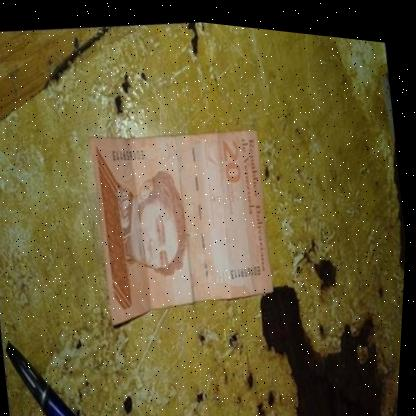twenty-front-vef: (81, 107, 287, 339)
